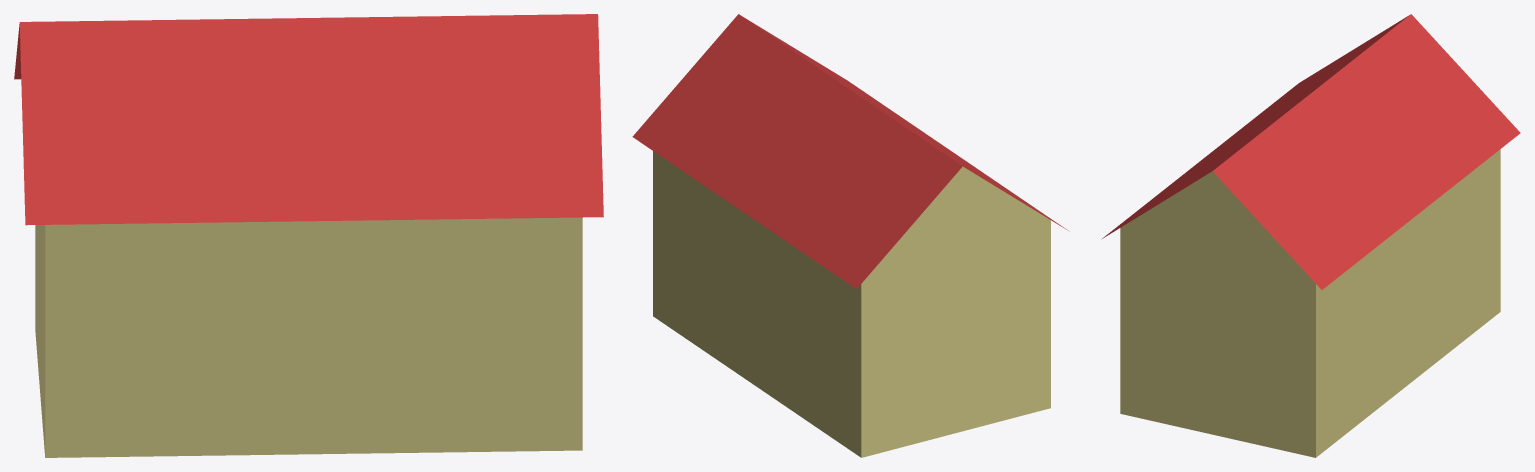
3 views of the same model, side by side, from view 1: azimuth 30°, elevation 25°; view 2: azimuth 150°, elevation 25°; view 3: azimuth 270°, elevation 25° (orthographic). The views are drawn at different scales.
Parts seen in each view (by area): view 1: group_5, group_3, group_4; view 2: group_5, group_3, group_4; view 3: group_5, group_3, group_4.
Part boxes in pixels (x1,y1,x2,y2): group_5: [35, 217, 582, 457]; group_3: [20, 14, 603, 225]; group_4: [14, 14, 603, 224]; group_5: [653, 151, 1050, 457]; group_3: [632, 14, 1047, 288]; group_4: [742, 16, 1069, 231]; group_5: [1120, 149, 1500, 457]; group_3: [1101, 14, 1520, 289]; group_4: [1106, 15, 1409, 235].
Bounding box in the file's own units: 24.69 × 21.17 × 15.03.
